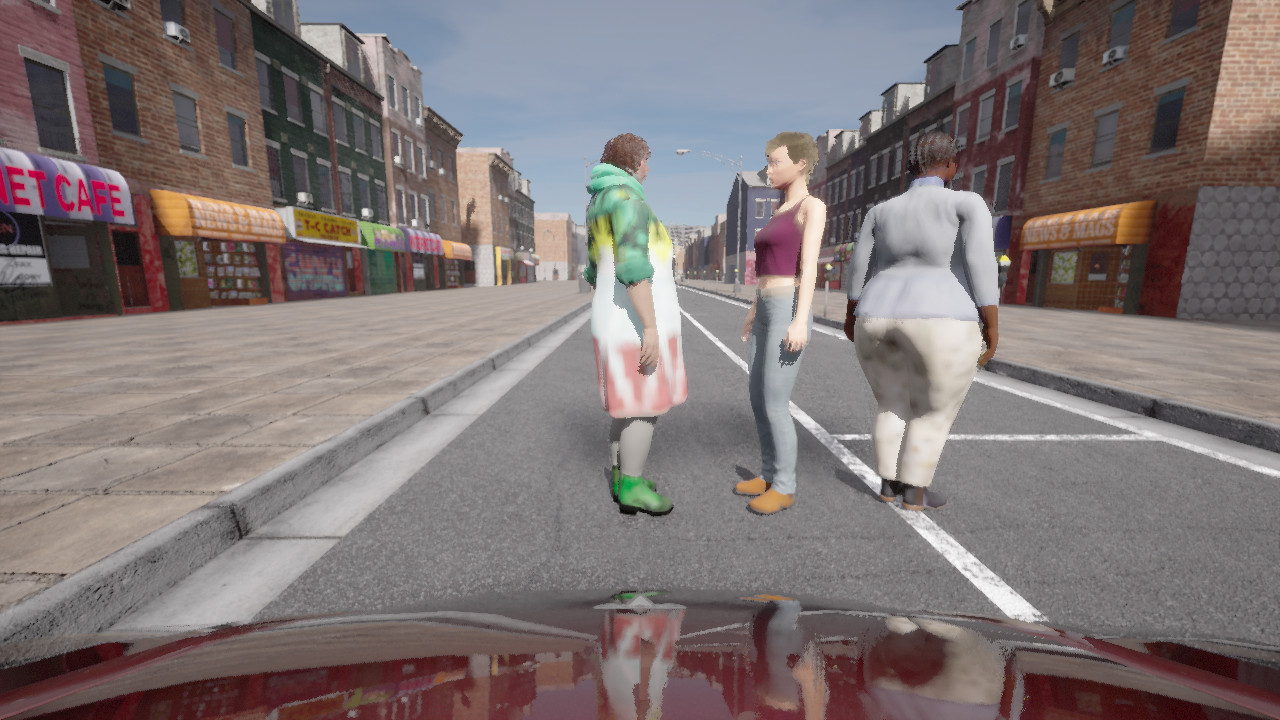cyclist: (0, 588, 1279, 719)
pedestrian: (844, 130, 997, 510), (584, 133, 686, 515), (735, 130, 826, 513)
